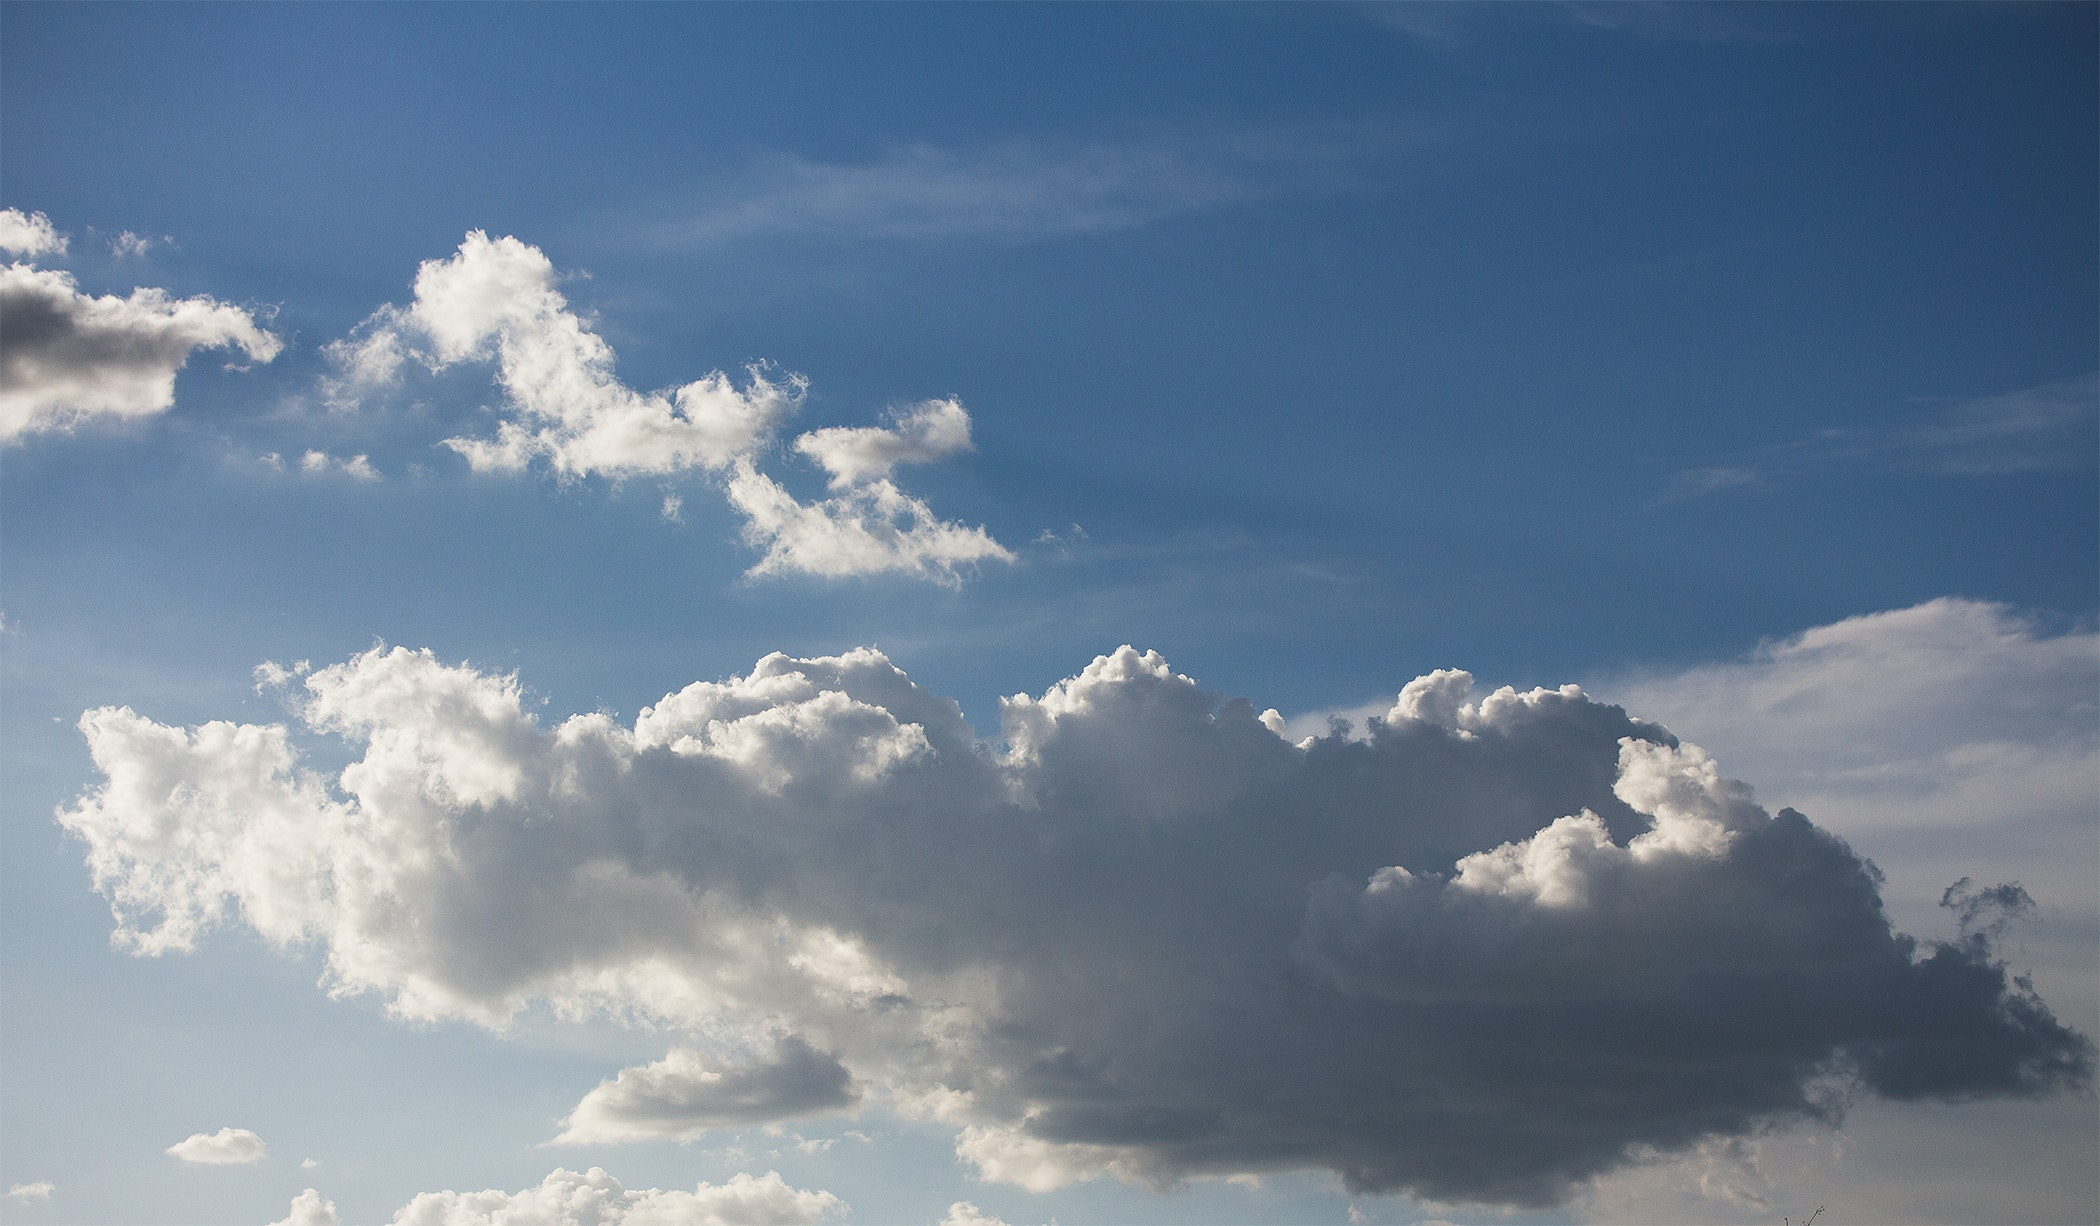Cirrus: (381, 200, 1051, 581)
Cumulus: (76, 593, 2042, 1207)
